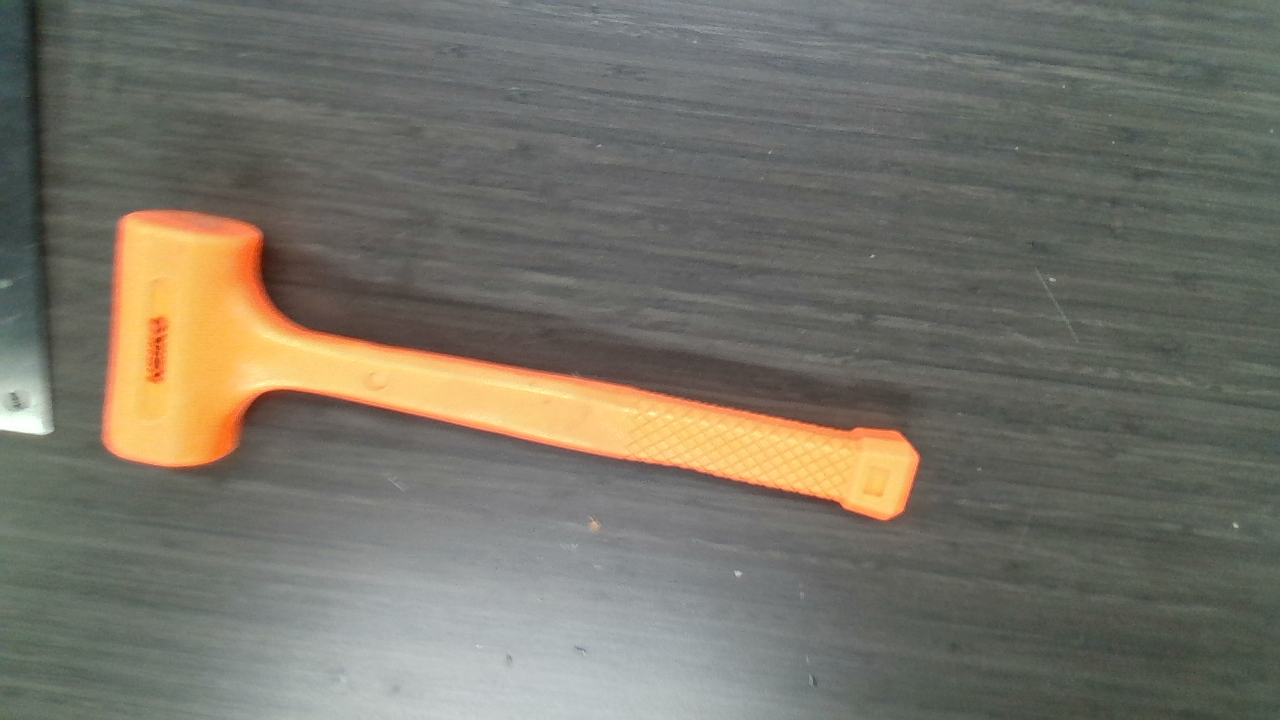Orange Hammer: (110, 210, 918, 521)
